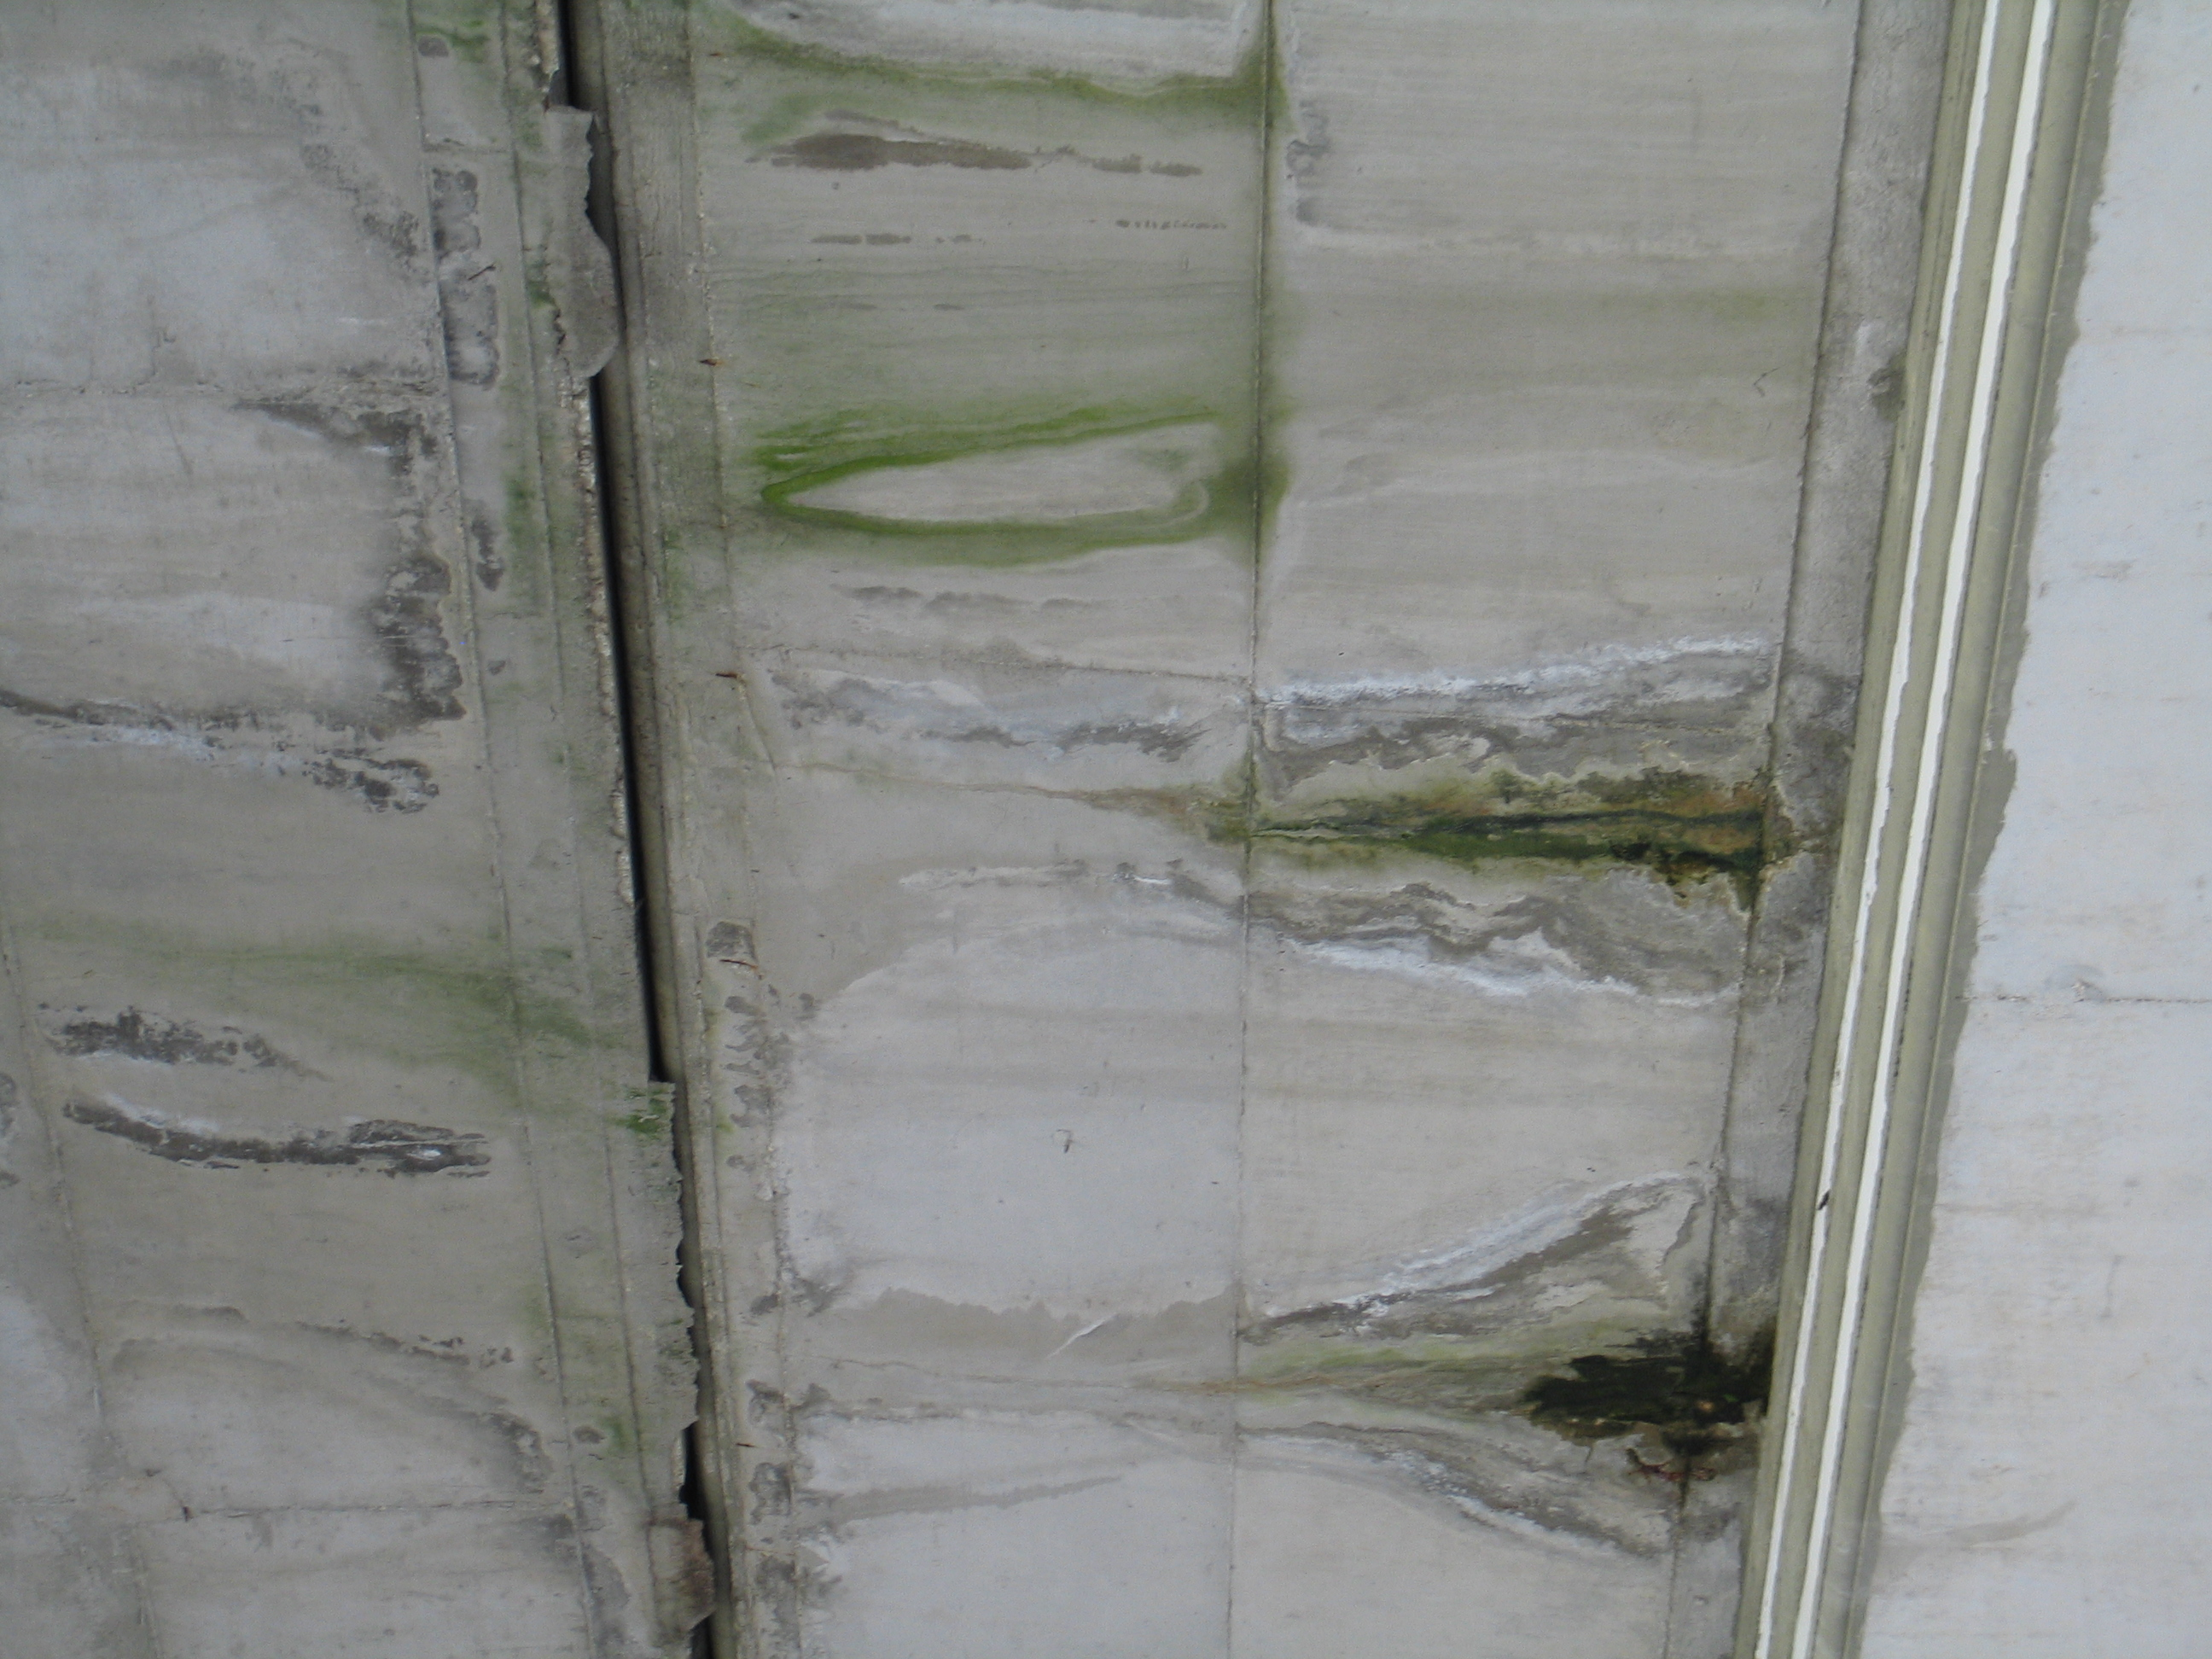defect: (1139, 629, 1869, 1006), (1233, 1173, 1791, 1547)
